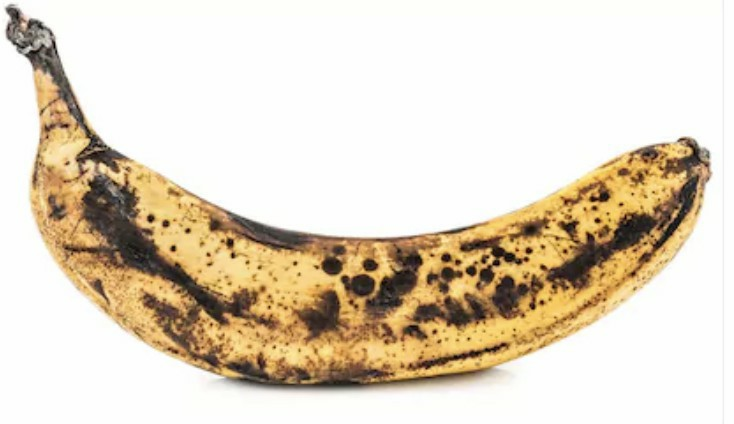rotten_banana: (10, 10, 714, 386)
